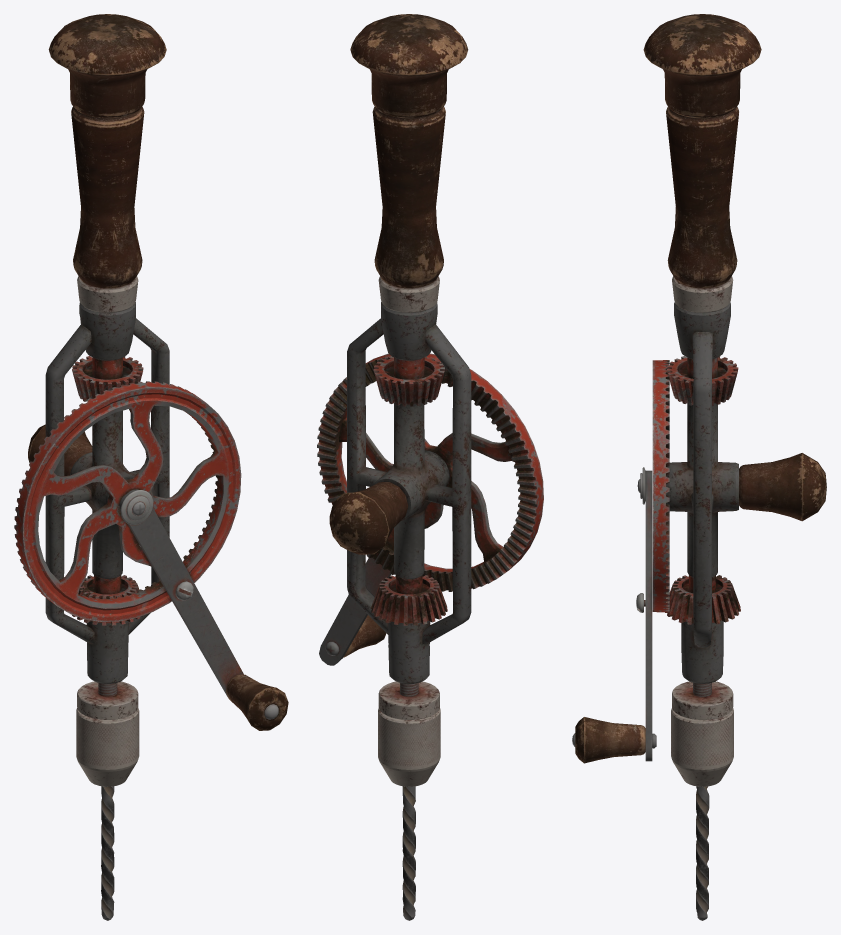
File: hand-drill.glb
3 views of the same model, side by side, from view 1: azimuth 30°, elevation 25°; view 2: azimuth 150°, elevation 25°; view 3: azimuth 270°, elevation 25° (orthographic).
Visible parts, largest first — view 1: vintage_hand_drill, vintage_hand_drill_crank, vintage_hand_drill_head, vintage_hand_drill_cog1, vintage_hand_drill_cog2; view 2: vintage_hand_drill, vintage_hand_drill_crank, vintage_hand_drill_head, vintage_hand_drill_cog2, vintage_hand_drill_cog1; view 3: vintage_hand_drill, vintage_hand_drill_crank, vintage_hand_drill_head, vintage_hand_drill_cog2, vintage_hand_drill_cog1.
Boxes of the visible parts, x1,y1,x2,y2 form: vintage_hand_drill: [28, 14, 169, 683]; vintage_hand_drill_crank: [14, 381, 288, 730]; vintage_hand_drill_head: [76, 681, 139, 920]; vintage_hand_drill_cog1: [72, 356, 143, 401]; vintage_hand_drill_cog2: [72, 575, 142, 625]; vintage_hand_drill: [329, 14, 471, 683]; vintage_hand_drill_crank: [317, 353, 543, 665]; vintage_hand_drill_head: [378, 681, 440, 920]; vintage_hand_drill_cog2: [371, 575, 447, 625]; vintage_hand_drill_cog1: [373, 356, 444, 406]; vintage_hand_drill: [643, 14, 826, 683]; vintage_hand_drill_crank: [572, 360, 669, 763]; vintage_hand_drill_head: [671, 681, 733, 920]; vintage_hand_drill_cog2: [665, 575, 740, 624]; vintage_hand_drill_cog1: [666, 356, 738, 405].
Bounding box in the file's own units: 0.1312 × 0.4857 × 0.1251.
Materials: 1 (1 with a texture image).
